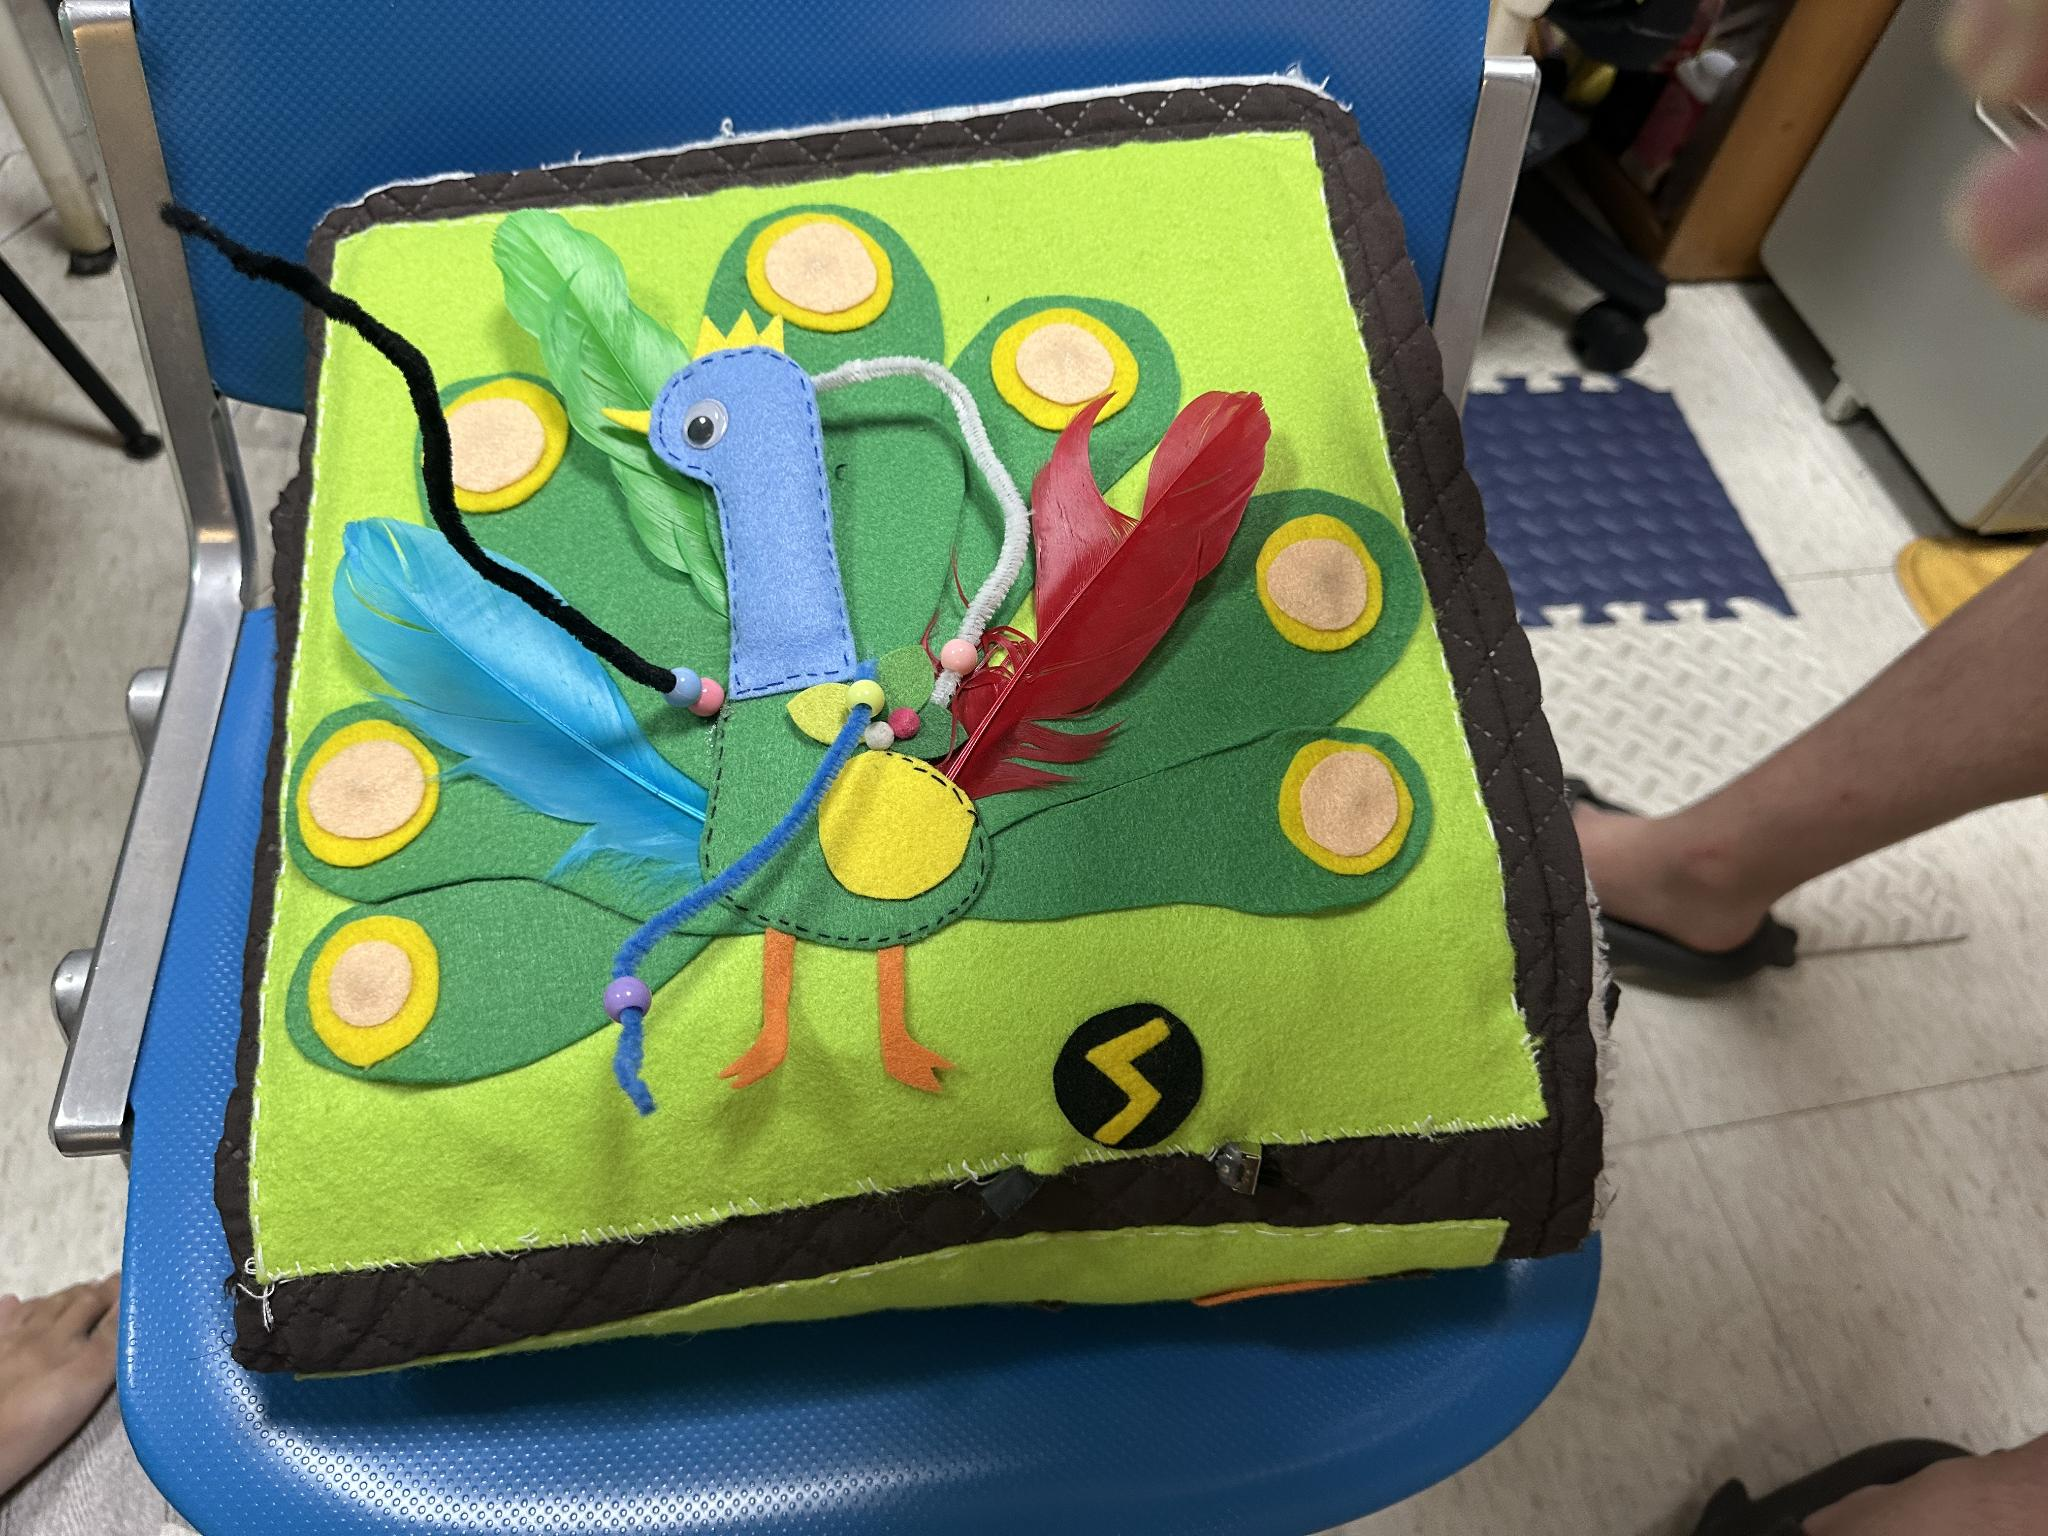bead: (598, 963, 656, 1033), (930, 636, 997, 681), (687, 674, 734, 726), (843, 678, 897, 723), (661, 655, 701, 713)
